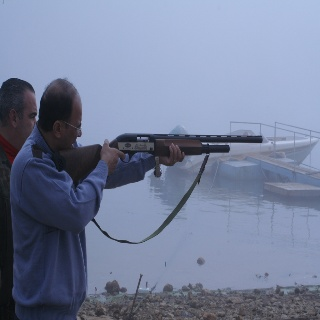shotgun: (54, 130, 265, 186)
